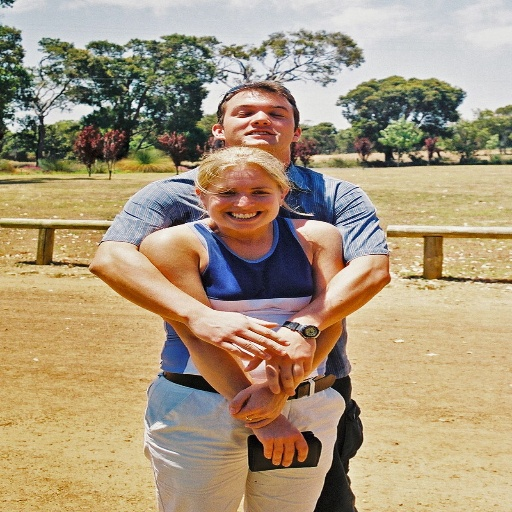hand: (167, 302, 307, 368), (243, 328, 319, 400), (228, 378, 293, 432), (253, 414, 311, 469)
